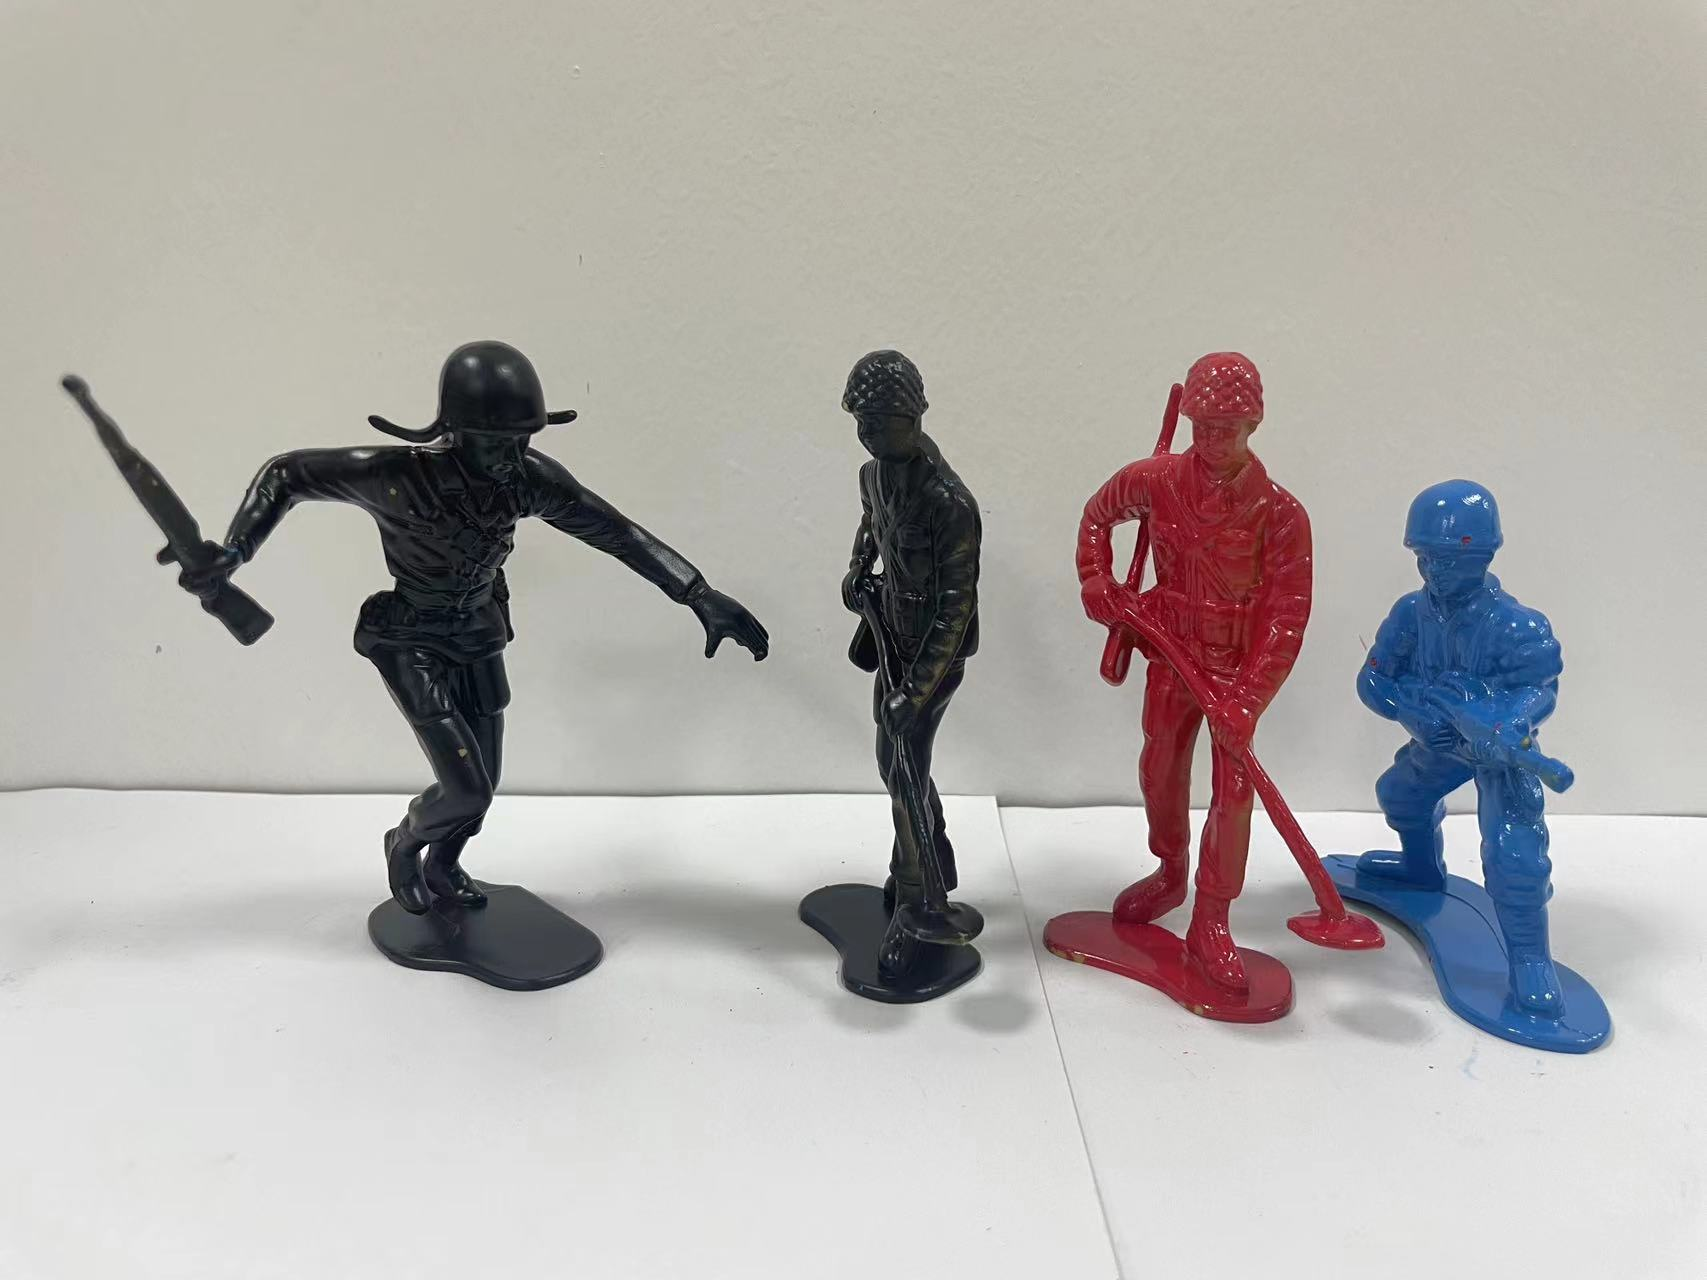black: (43, 304, 776, 1026), (790, 328, 1032, 1038)
blue: (1328, 434, 1625, 1076)
red: (1052, 331, 1359, 1059)
